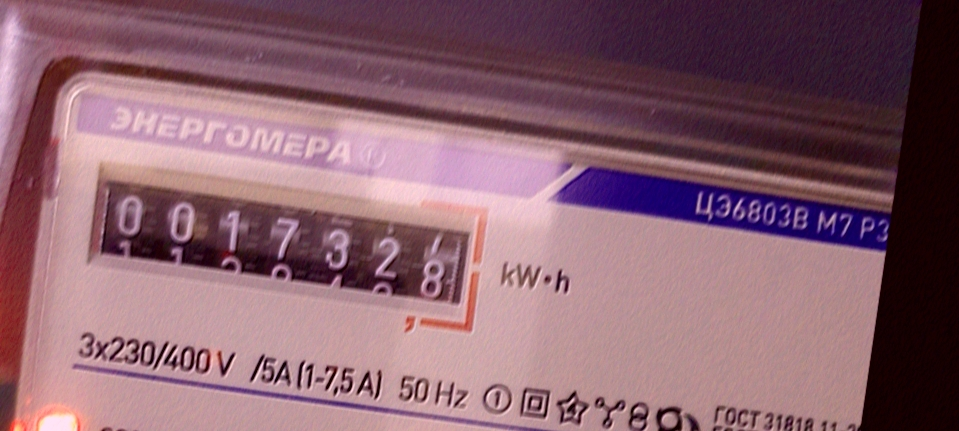0: (110, 192, 148, 240), (163, 197, 198, 246)
1: (217, 206, 245, 255)
2: (367, 234, 403, 282)
3: (319, 226, 352, 272)
7: (266, 214, 299, 264)
8: (414, 256, 445, 301)
screen: (72, 154, 496, 339)
